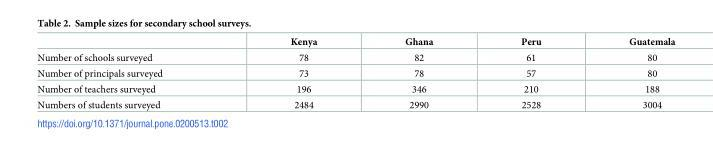table: (36, 36, 674, 109)
table column: (36, 36, 225, 109), (225, 36, 360, 109), (360, 36, 476, 109), (476, 36, 584, 109), (584, 36, 674, 109)
table column header: (36, 36, 674, 49)
table row: (36, 49, 674, 65), (36, 65, 674, 81), (36, 81, 674, 96), (36, 36, 674, 49), (36, 96, 674, 109)
